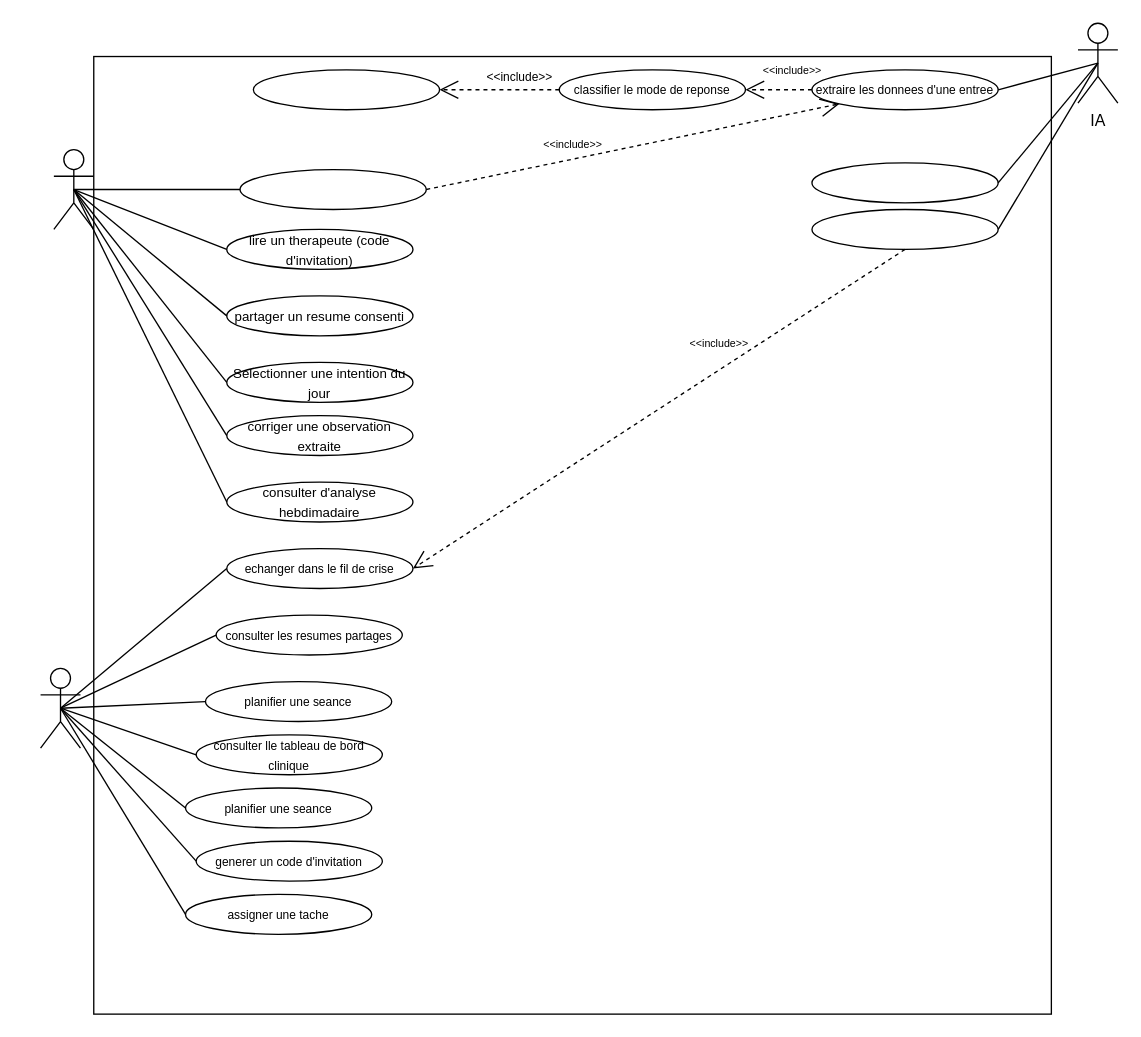
This 1141x1037 diagram has some shape labels left out. Each missing label, with the box of its shape:
Detecter un signal de crise: (811, 208, 998, 249)
generer une reponse du coach: (252, 68, 440, 110)
patient: (53, 148, 94, 229)
Rediger une entree de journal: (239, 168, 426, 209)
suggerer un souvenir a memoriser: (811, 162, 998, 203)
therapeute: (39, 667, 80, 748)
